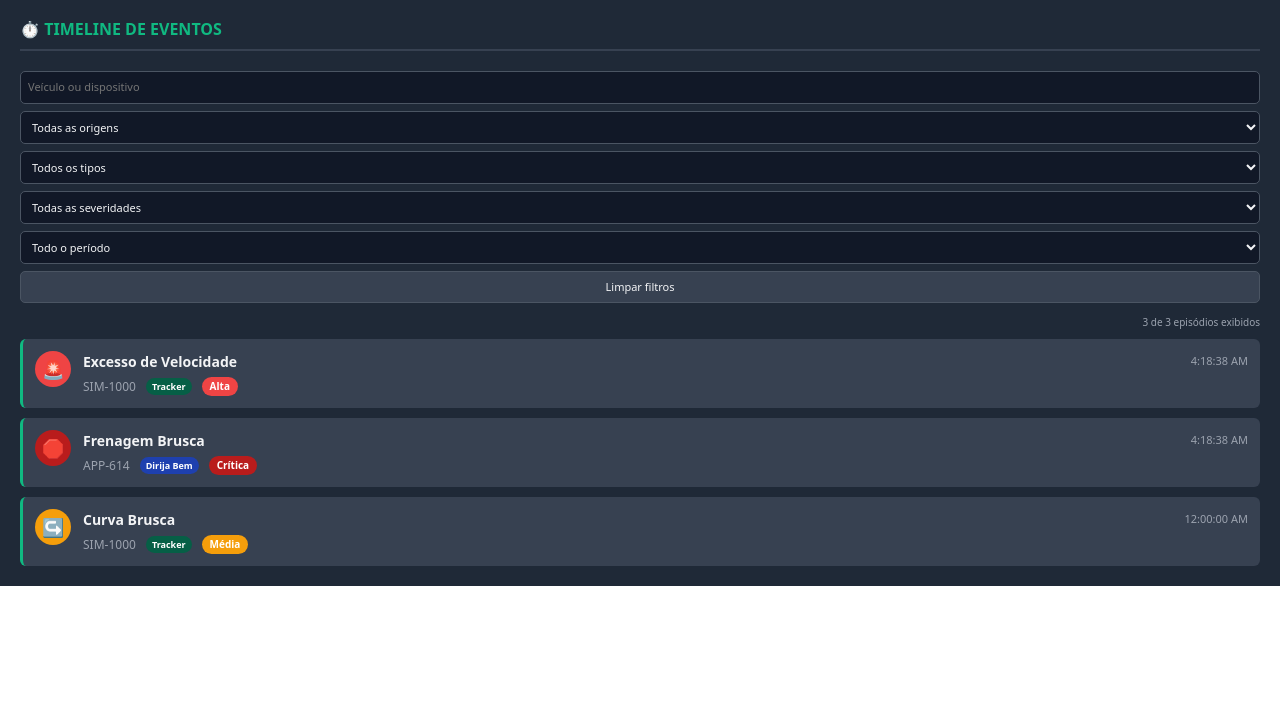
Test: filtra por período e limpa todos os filtros
Expected: the text "3 de 3 episódios exibidos" is shown, [1142, 315, 1260, 329]
Select "Última hora" in the dropdown named "Filtrar por período". click: (640, 247)
box: [20, 231, 1260, 264]
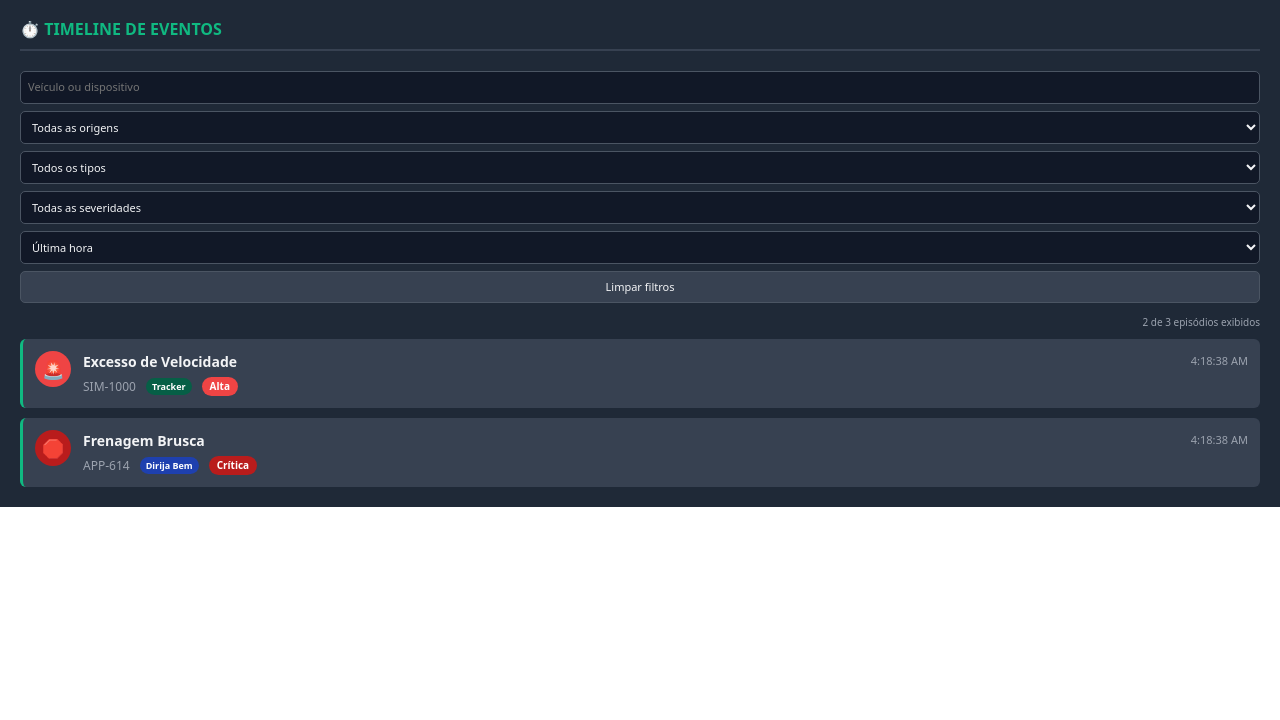
Now the text "2 de 3 episódios exibidos" is shown, box [1142, 315, 1260, 329]
Click the button "Limpar filtros". click: (640, 287)
box: [20, 271, 1260, 303]
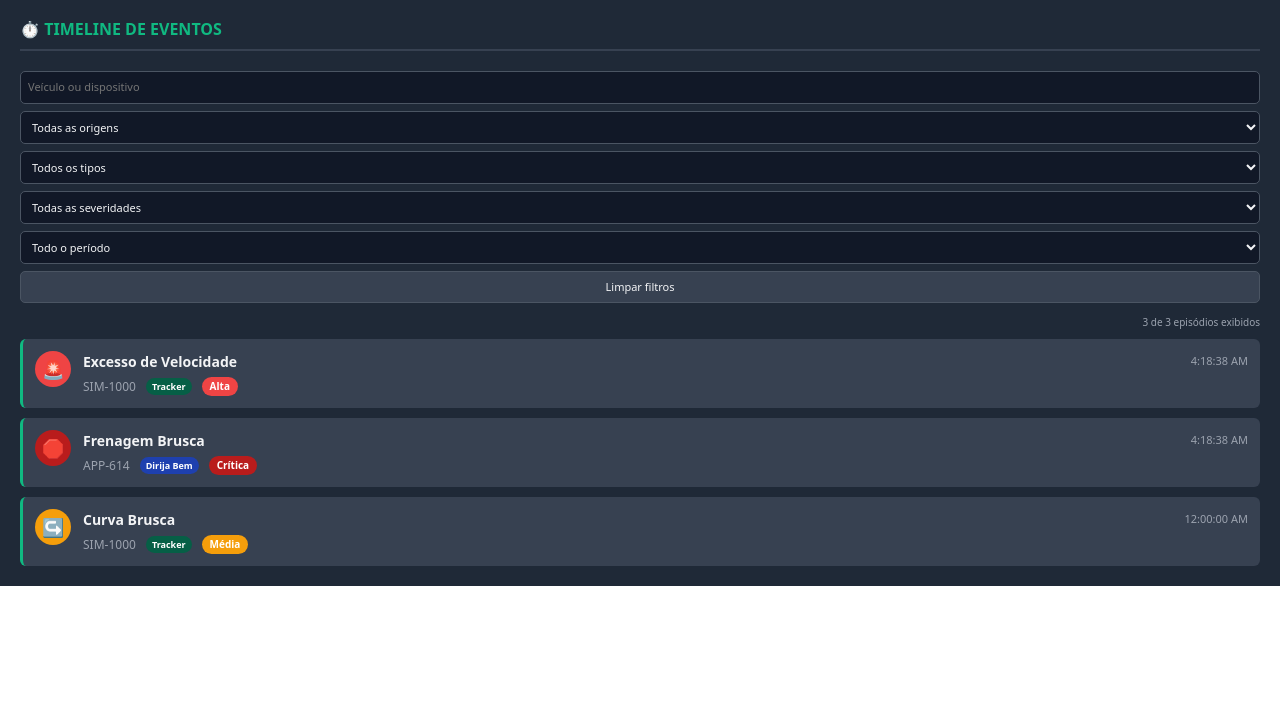
Now the text "3 de 3 episódios exibidos" is shown, box [1142, 315, 1260, 329]
